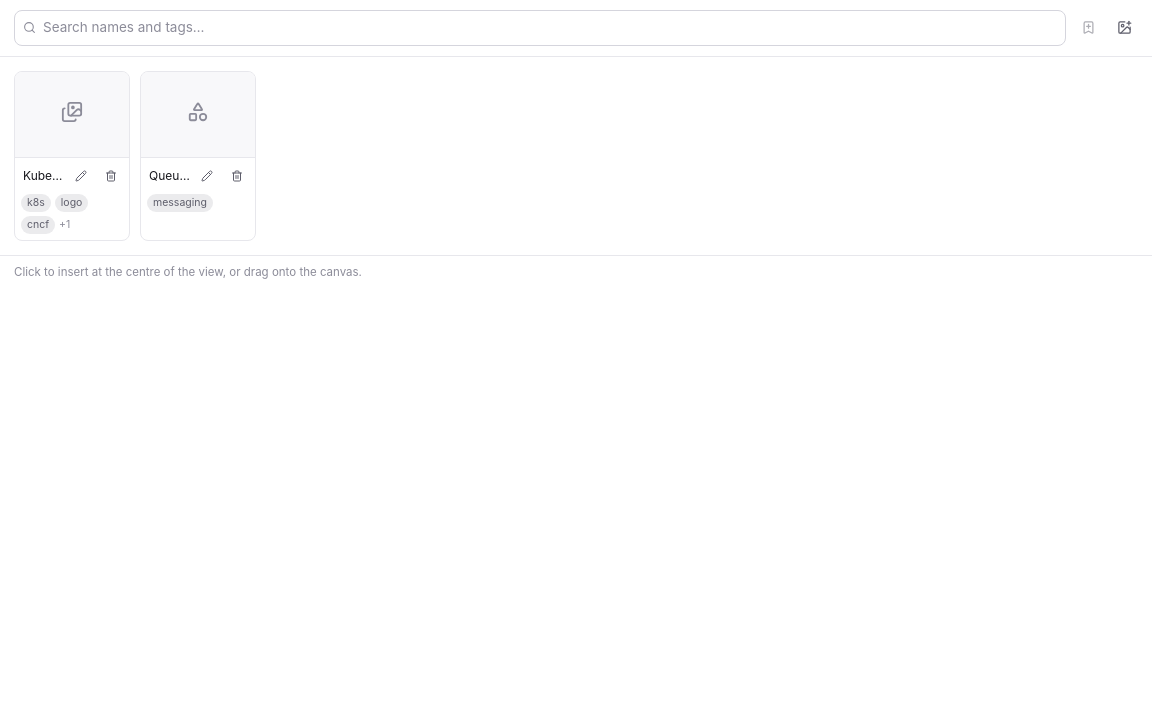
Test: GalleryPanel › should edit the name, tags and description of an item
Click the button named "Edit Queue <b>bold</b>": [207, 176] box [193,162,221,190]
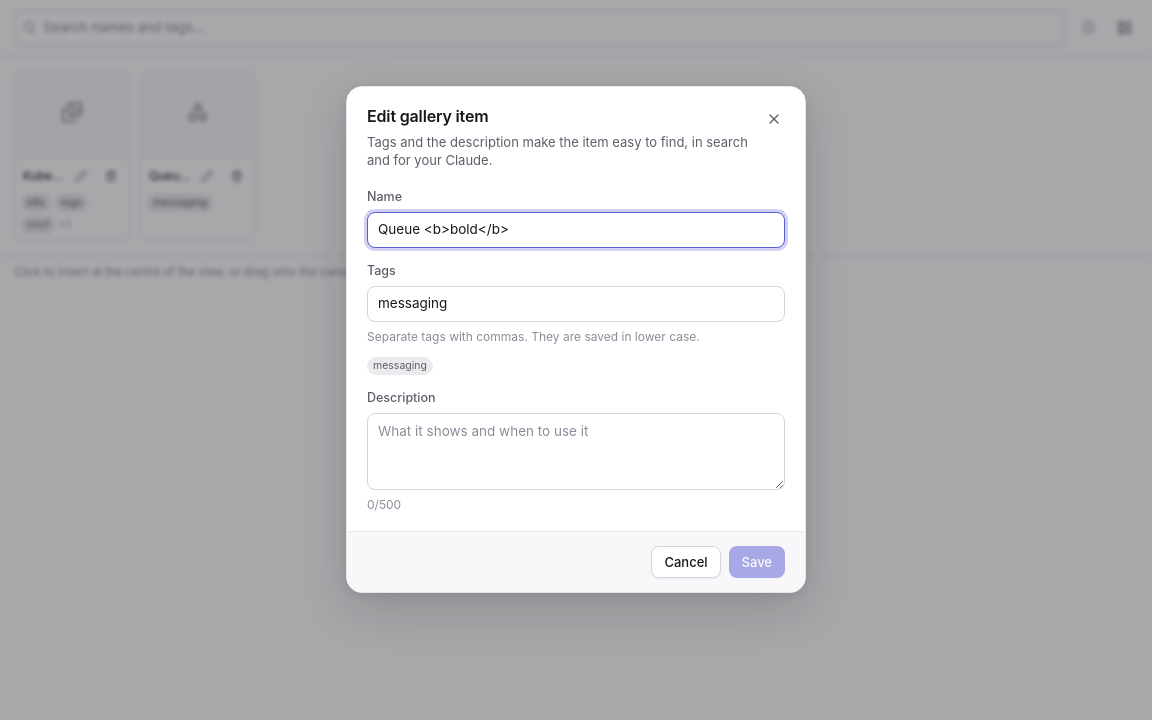
Replace the text in the field labelled "Tags" with "AWS, sqs, aws": [576, 304] box [367,286,785,322]
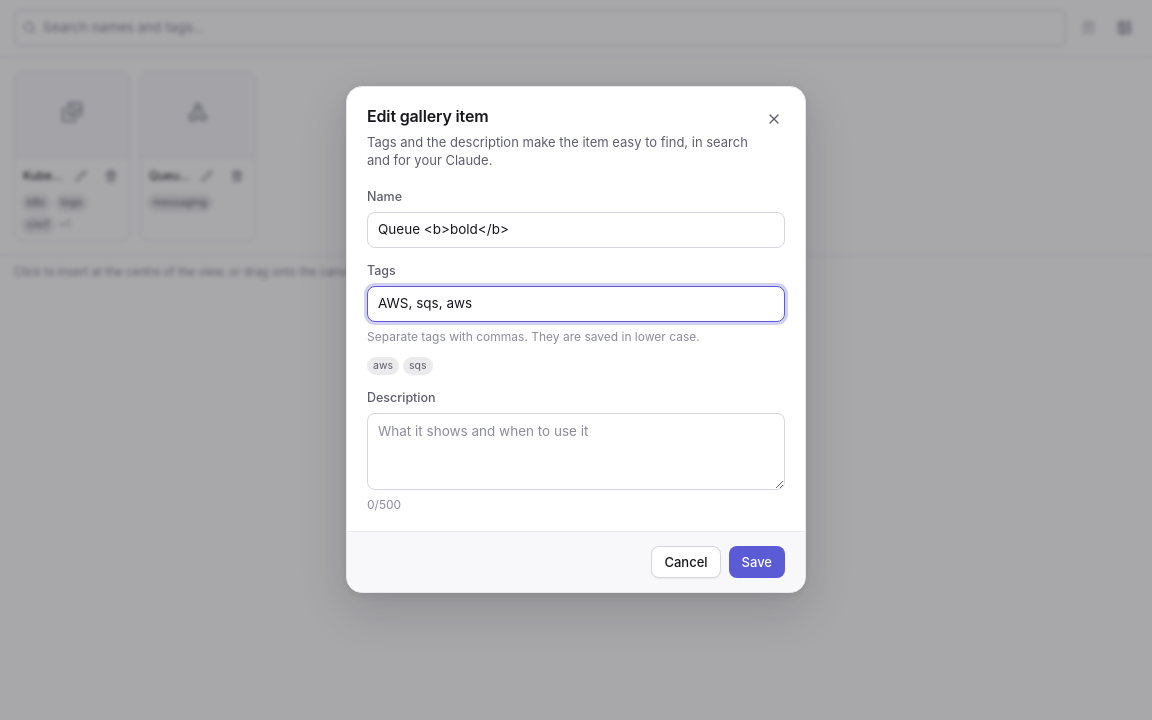
Expected: the element named "Tags preview" reads "aws sqs", [367,357,432,375]
In the text box labelled "Description": [576, 452] box [367,413,785,490], type "  FIFO "
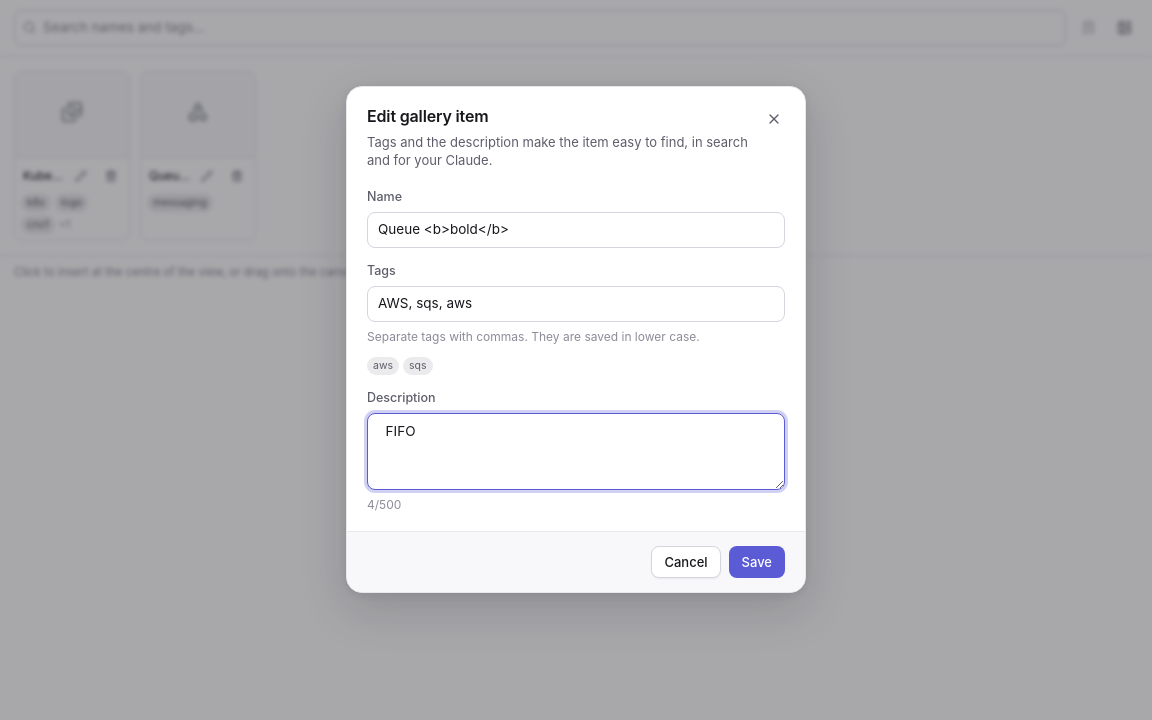
Click the button "Save": [757, 562] box [729,546,785,578]
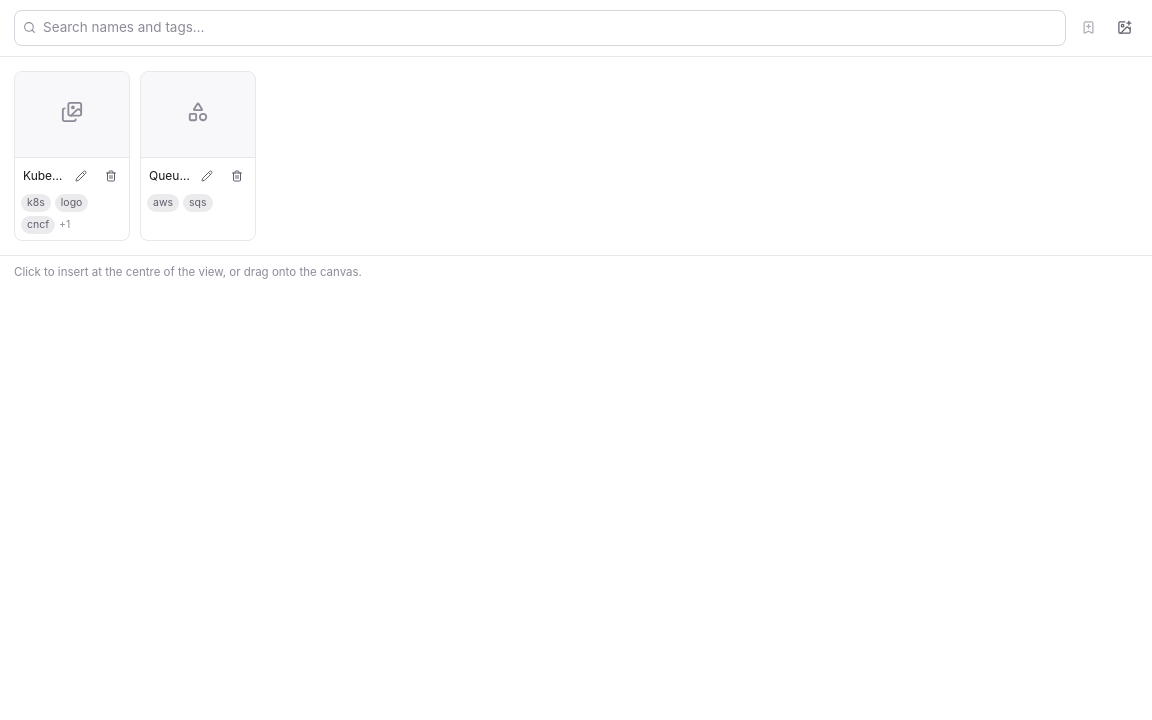
Expected: the button "sqs" is shown, [183,194,212,212]
Expected: the dialog is gone
